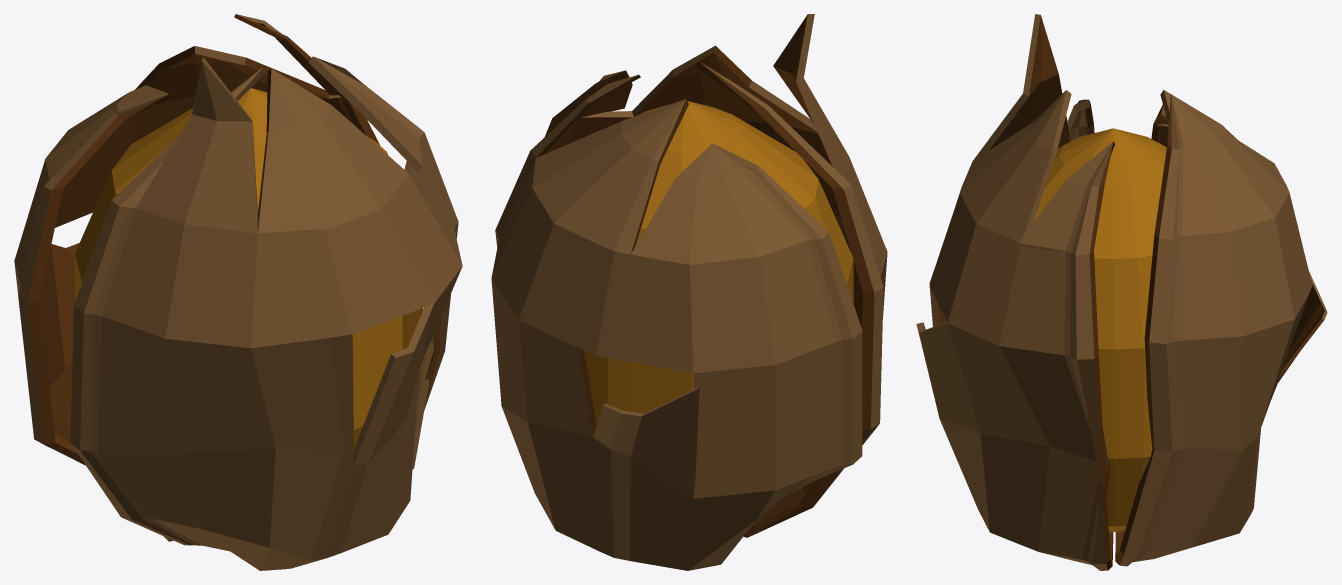
File: Nut1HP.fbx
The picture shows the model from 3 angles, left to right: view 1: azimuth 30°, elevation 25°; view 2: azimuth 150°, elevation 25°; view 3: azimuth 270°, elevation 25°; orthographic projection. The views are drawn at different scales.
Visible parts, largest first — view 1: 1 Life.002; view 2: 1 Life.002; view 3: 1 Life.002.
Boxes of the visible parts, box(x1,y1,x2,y2) form: 1 Life.002: box(14, 14, 462, 570); 1 Life.002: box(491, 14, 887, 570); 1 Life.002: box(916, 14, 1327, 570).
Bounding box in the file's own units: 2.82 × 3.71 × 2.84.
